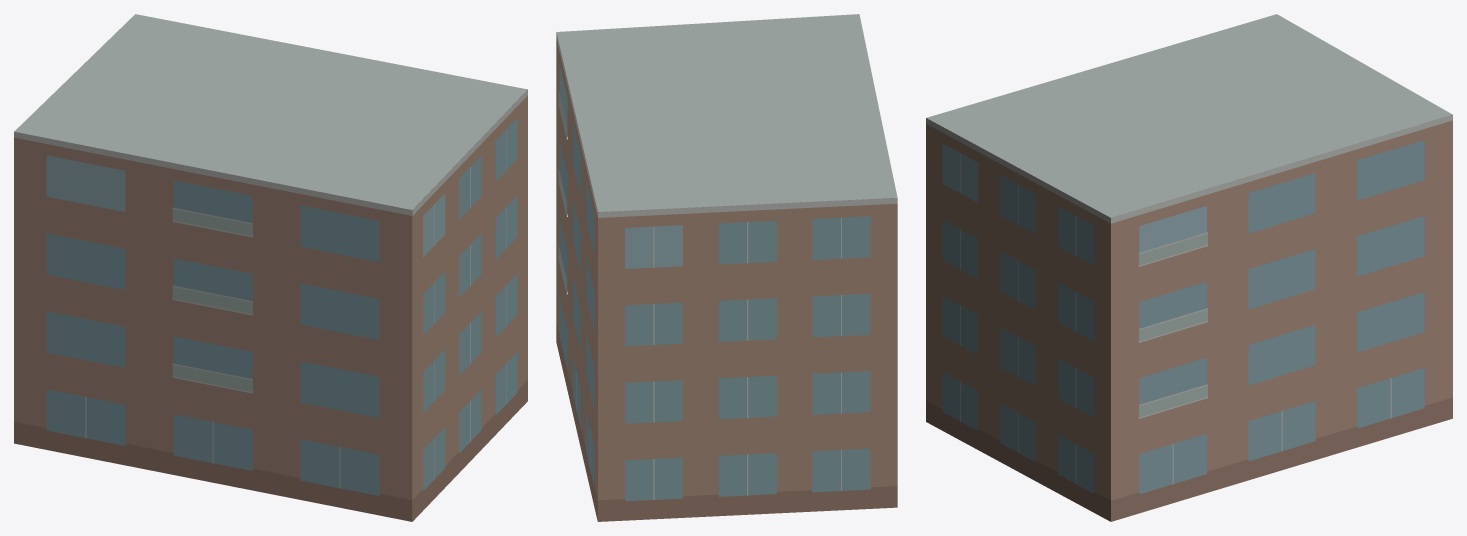
File: survey-upis-32530188.glb
3 renders of one model, left to right at view 1: azimuth 30°, elevation 25°; view 2: azimuth 150°, elevation 25°; view 3: azimuth 270°, elevation 25°, orthographic. The views are drawn at different scales.
Visible parts, largest first — view 1: survey-upis-32530188.tmp; view 2: survey-upis-32530188.tmp; view 3: survey-upis-32530188.tmp.
Part boxes in pixels (box(x1,y1,x2,y2)): survey-upis-32530188.tmp: box(14, 14, 527, 521); survey-upis-32530188.tmp: box(556, 14, 897, 521); survey-upis-32530188.tmp: box(926, 14, 1452, 521).
Bounding box in the file's own units: 18.42 × 12.8 × 20.11.
